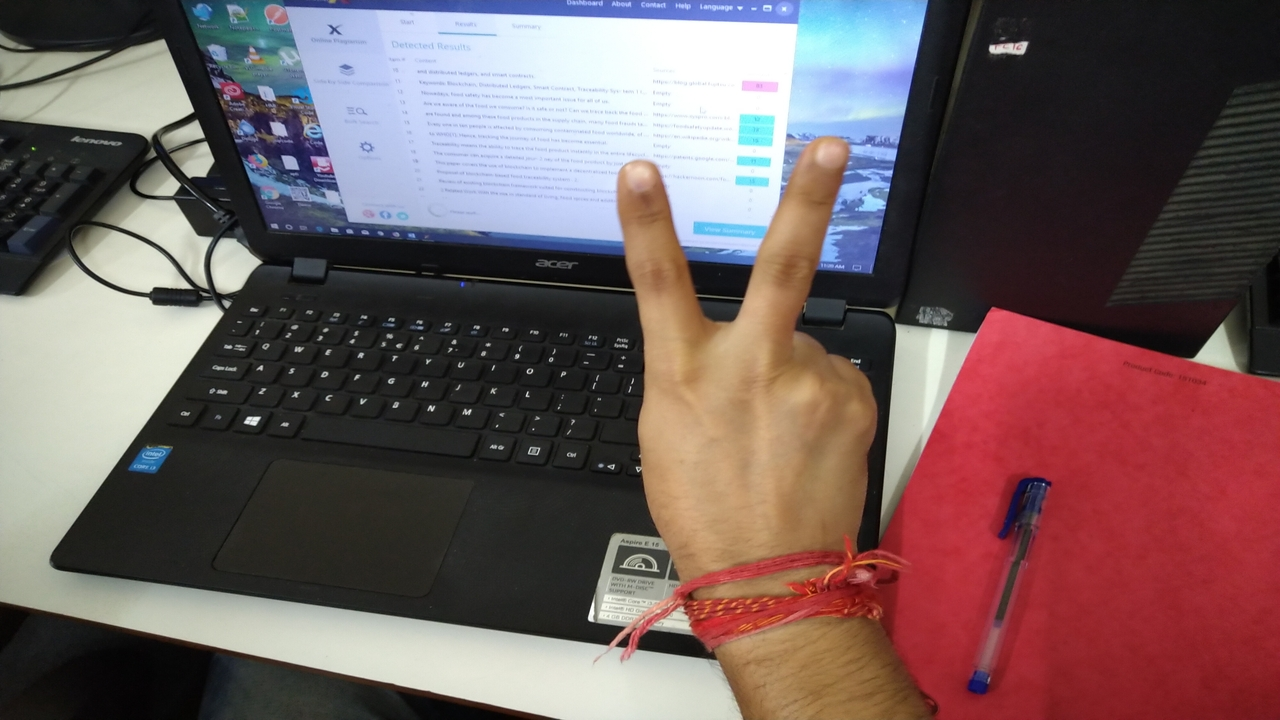fingertip: (794, 128, 854, 180), (612, 158, 668, 208)
